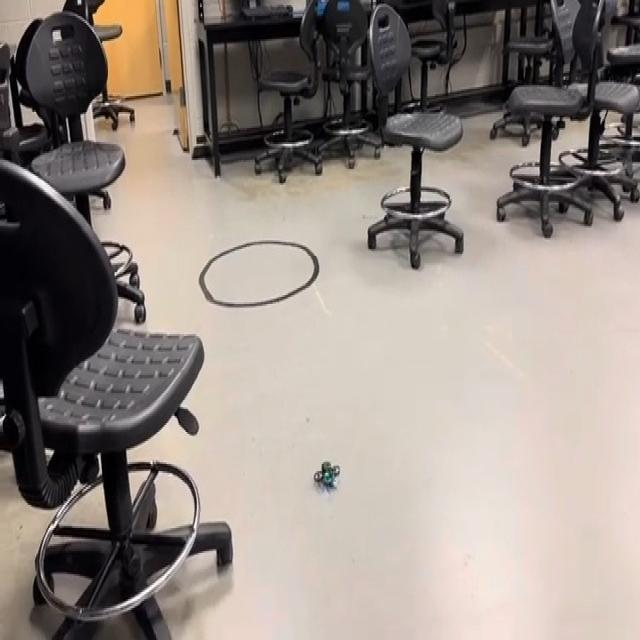drone: (308, 446, 346, 506)
